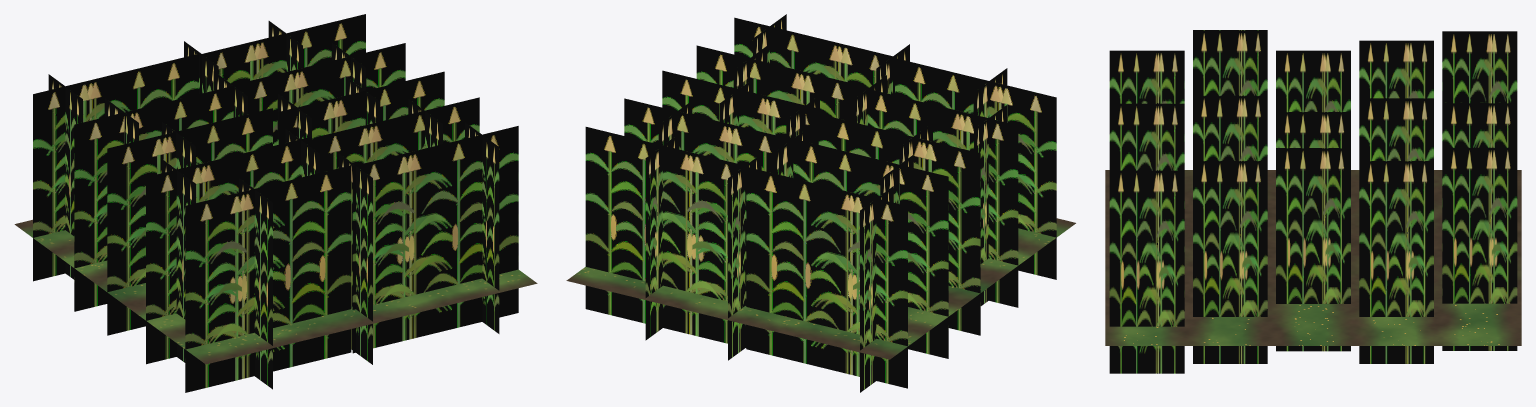
Rendered from Crop_Corn_1.gltf.
3 renders of one model, left to right at view 1: azimuth 30°, elevation 25°; view 2: azimuth 150°, elevation 25°; view 3: azimuth 270°, elevation 25°, orthographic. The views are drawn at different scales.
Parts seen in each view (by area): view 1: Crop_Corn_1; view 2: Crop_Corn_1; view 3: Crop_Corn_1.
Part boxes in pixels (x1,y1,x2,y2): Crop_Corn_1: (14, 14, 537, 392); Crop_Corn_1: (566, 14, 1075, 392); Crop_Corn_1: (1105, 30, 1521, 373).
Bounding box in the file's own units: 4 × 2.16 × 4.
Materials: 2 (2 with a texture image).
